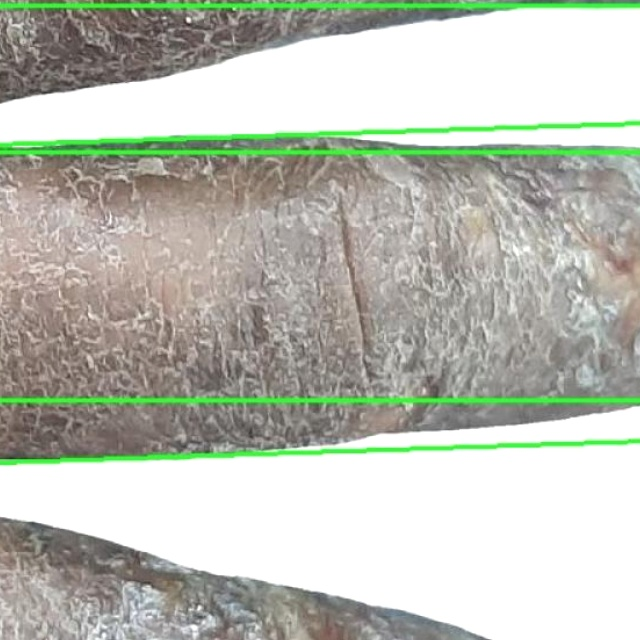Eczema: (0, 123, 639, 462), (0, 400, 639, 639), (0, 5, 639, 152)
